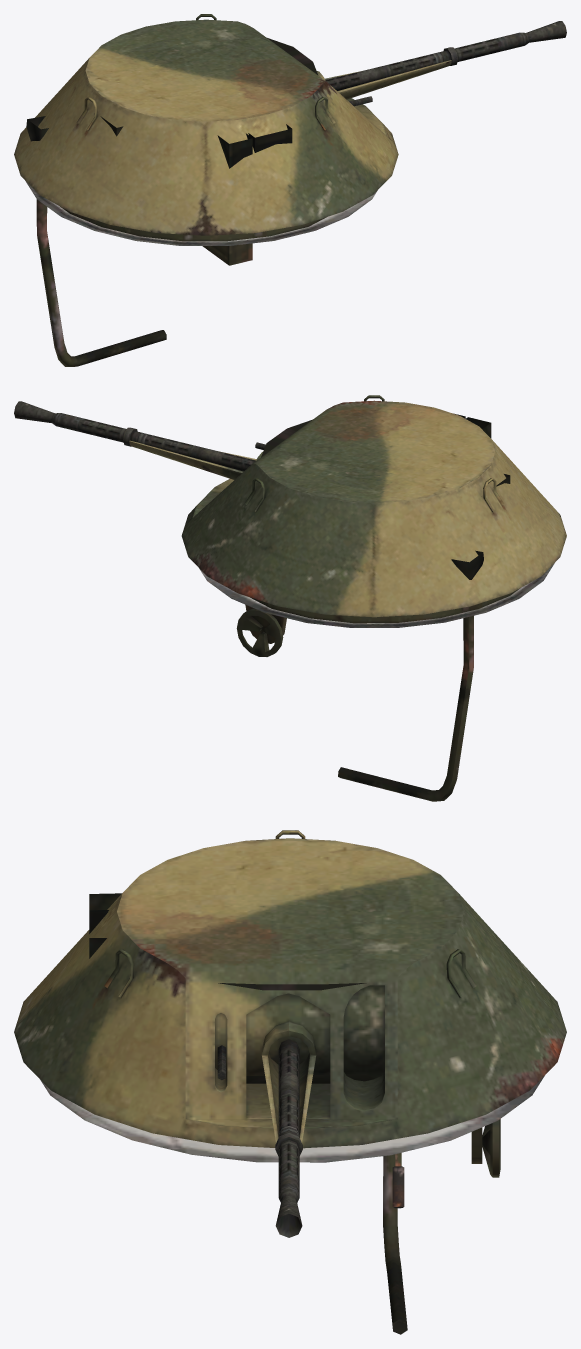
Rendered from btr60pb_turret.obj.
3 renders of one model, top to bottom at view 1: azimuth 30°, elevation 25°; view 2: azimuth 150°, elevation 25°; view 3: azimuth 270°, elevation 25°, orthographic. The views are drawn at different scales.
Visible parts, largest first — view 1: FrontHatchs1Mtl_Obj, Interior21Mtl_Obj, InteriorParts1Mtl_Obj; view 2: FrontHatchs1Mtl_Obj, Interior21Mtl_Obj, InteriorParts1Mtl_Obj; view 3: FrontHatchs1Mtl_Obj, Interior21Mtl_Obj, InteriorParts1Mtl_Obj.
Part boxes in pixels (<box>): FrontHatchs1Mtl_Obj: <box>14,14,566,235</box>; Interior21Mtl_Obj: <box>25,38,377,366</box>; InteriorParts1Mtl_Obj: <box>100,116,292,265</box>; FrontHatchs1Mtl_Obj: <box>14,395,566,617</box>; Interior21Mtl_Obj: <box>199,419,554,801</box>; InteriorParts1Mtl_Obj: <box>236,413,510,656</box>; FrontHatchs1Mtl_Obj: <box>14,830,566,1237</box>; Interior21Mtl_Obj: <box>40,983,544,1334</box>; InteriorParts1Mtl_Obj: <box>89,893,500,1208</box>.
Bounding box in the file's own units: 12.3 × 6.74 × 7.85.
Materials: 3 (3 with a texture image).
